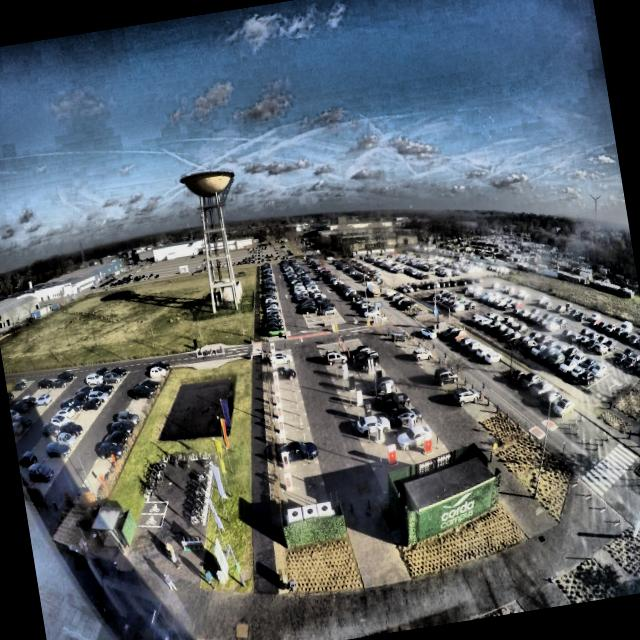cabinet: (288, 502, 331, 519)
car: (272, 438, 318, 464), (270, 364, 296, 382), (270, 348, 294, 366)
parking: (279, 462, 323, 491), (282, 484, 327, 509), (278, 443, 318, 468), (275, 427, 313, 449), (274, 412, 309, 431), (272, 400, 305, 416), (270, 368, 298, 384), (271, 390, 301, 403), (270, 356, 294, 372), (270, 381, 299, 394), (269, 350, 292, 360)
